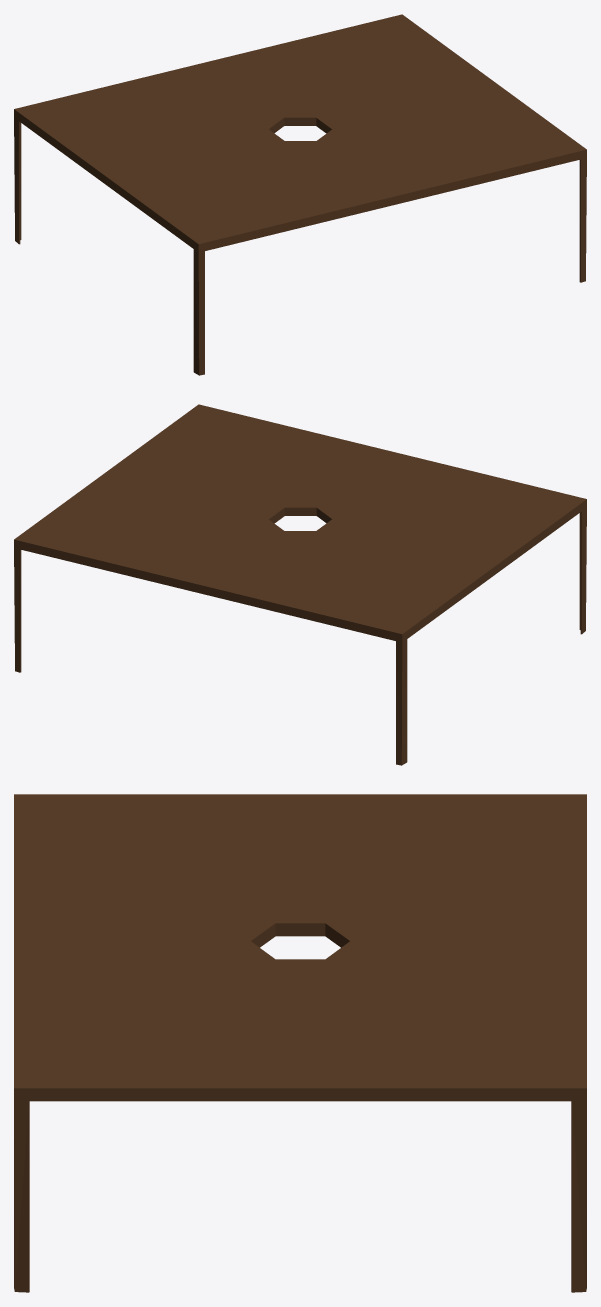
File: parasole_3.fbx
The picture shows the model from 3 angles, top to bottom: view 1: azimuth 30°, elevation 25°; view 2: azimuth 150°, elevation 25°; view 3: azimuth 270°, elevation 25°; orthographic projection. The views are drawn at different scales.
Visible parts, largest first — view 1: Cube.003; view 2: Cube.003; view 3: Cube.003.
Boxes of the visible parts, left/top/right/bottom form: Cube.003: left=14, top=14, right=586, bottom=375; Cube.003: left=14, top=404, right=586, bottom=765; Cube.003: left=14, top=794, right=586, bottom=1292.
Bounding box in the file's own units: 197 × 77.33 × 239.
